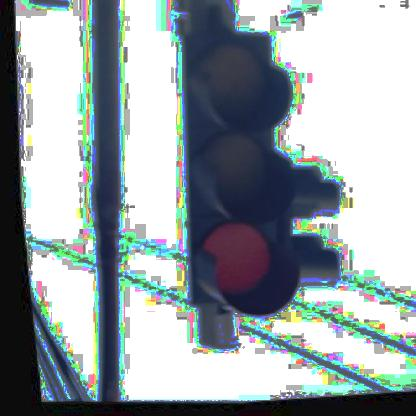Traffic Light -Red-: (161, 32, 314, 327)
